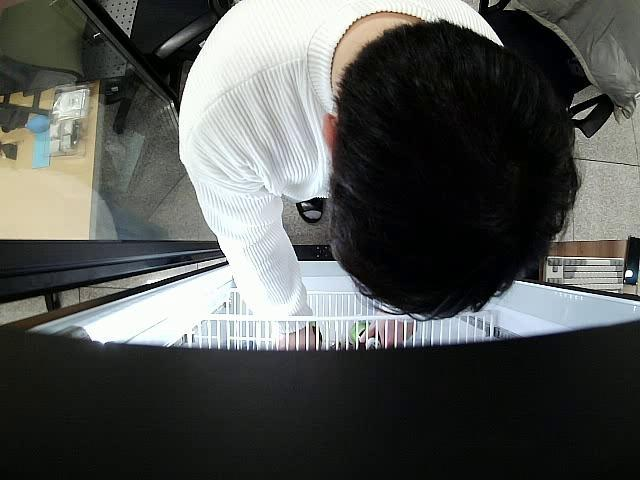19_17cha: (350, 320, 381, 348)
